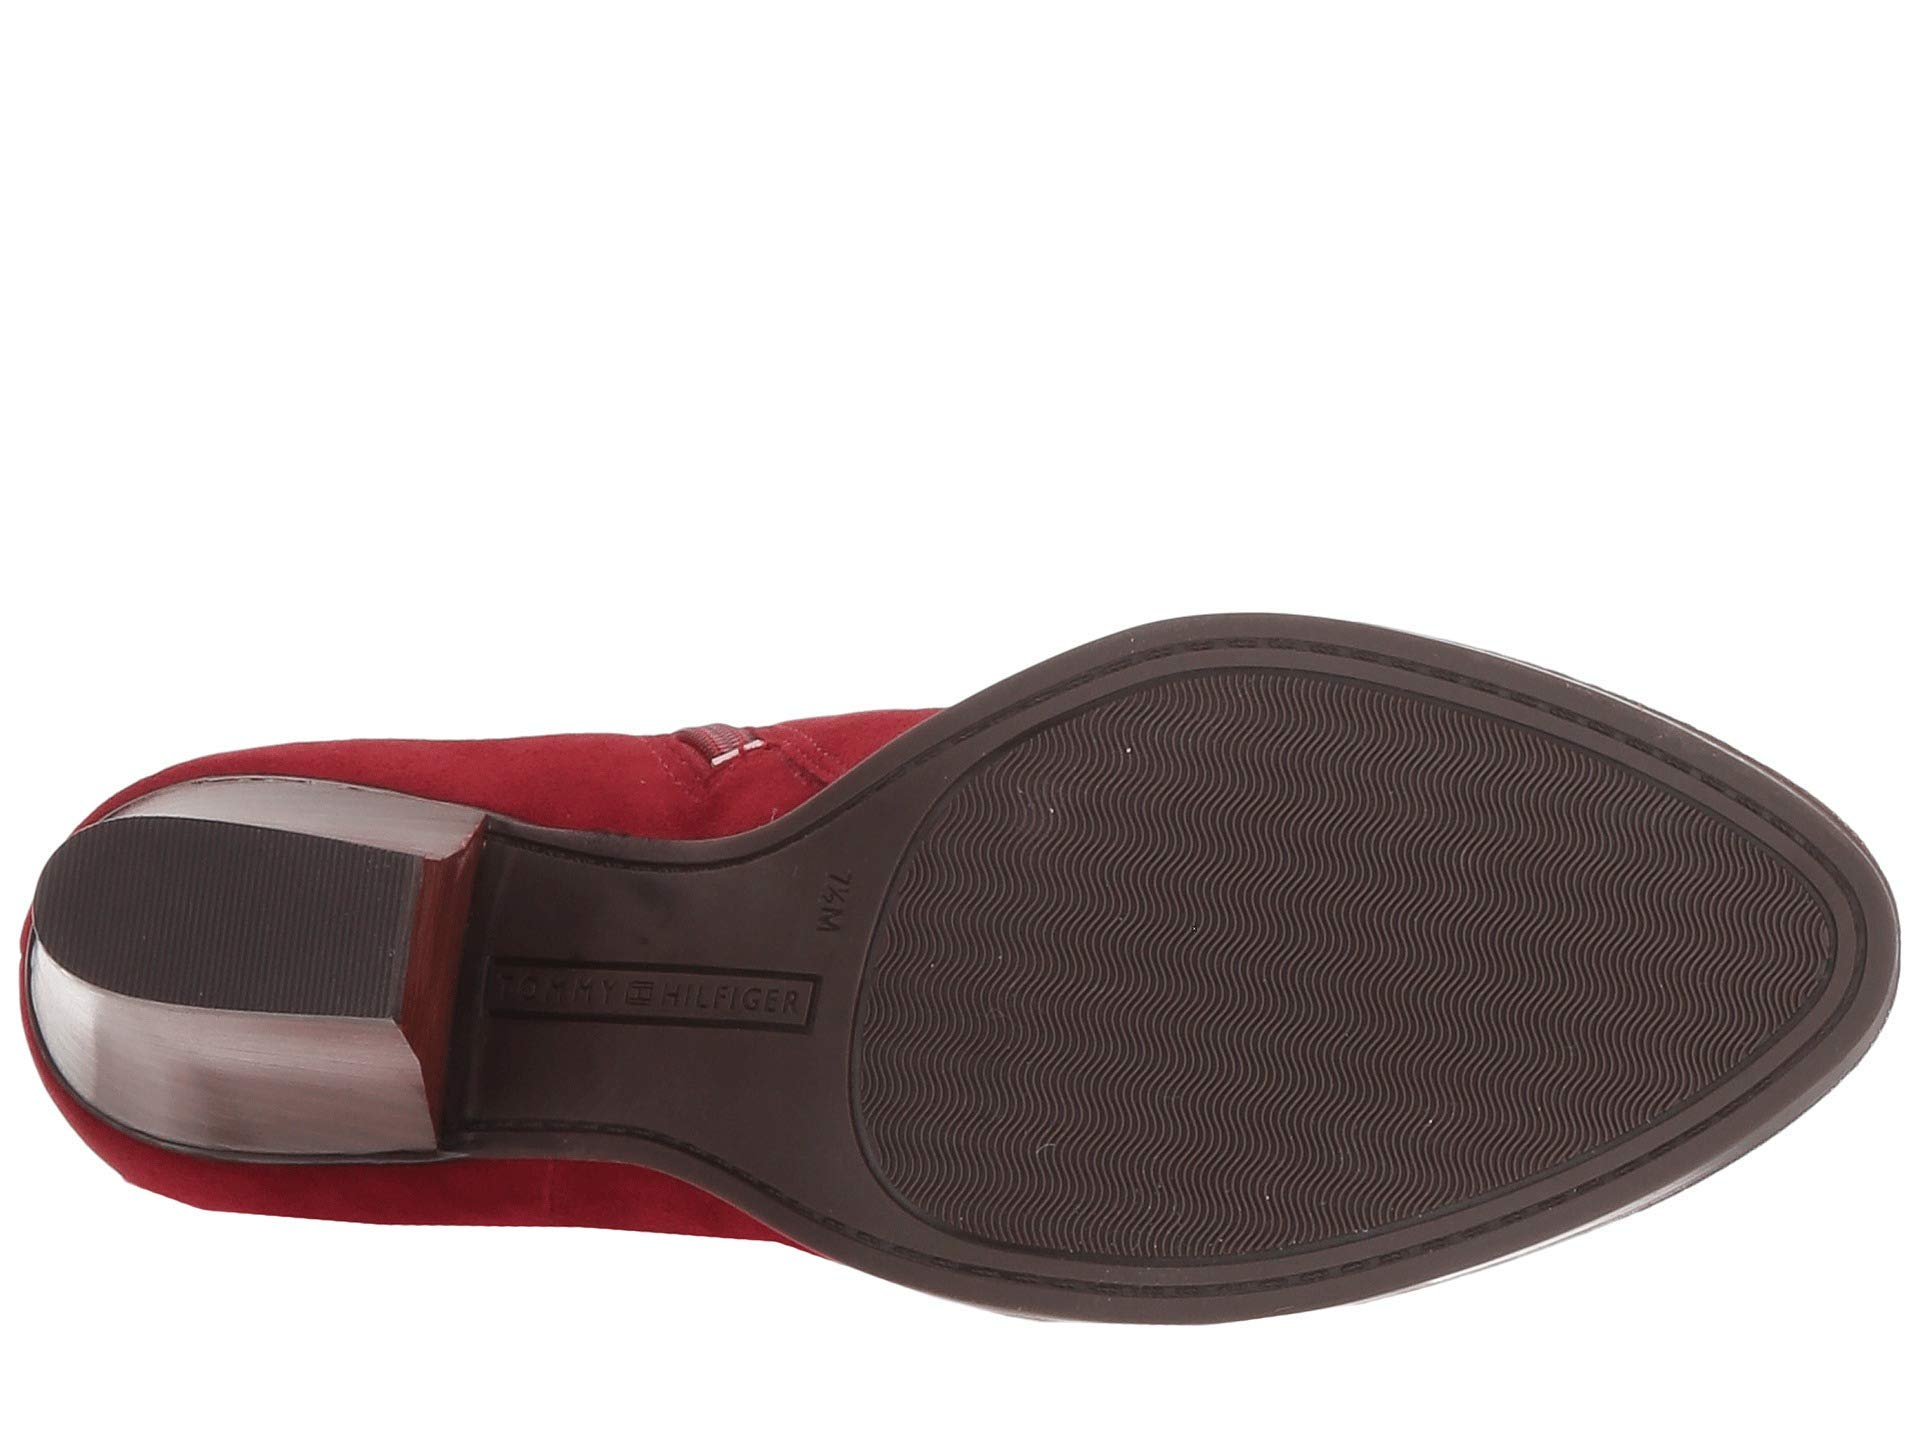line: (1027, 765, 1646, 1078)
quad: (475, 932, 831, 1047)
text: (475, 932, 831, 1047)
